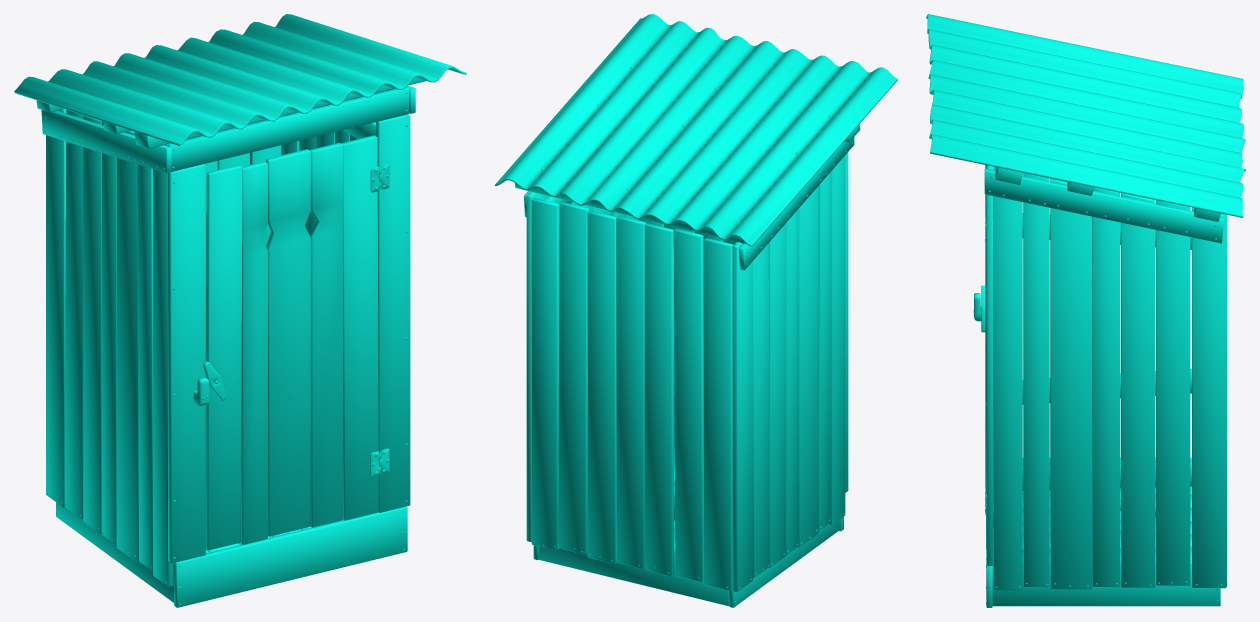
File: Toilet.FBX
3 renders of one model, left to right at view 1: azimuth 30°, elevation 25°; view 2: azimuth 150°, elevation 25°; view 3: azimuth 270°, elevation 25°, orthographic. The views are drawn at different scales.
Visible parts, largest first — view 1: Toilet, Door; view 2: Toilet; view 3: Toilet, Door.
Boxes of the visible parts, x1=… form: Toilet: x1=14, y1=14, x2=466, y2=607; Door: x1=205, y1=135, x2=380, y2=550; Toilet: x1=495, y1=14, x2=897, y2=607; Toilet: x1=926, y1=14, x2=1245, y2=607; Door: x1=980, y1=165, x2=994, y2=549.
Bounding box in the file's own units: 200 × 333 × 201.
